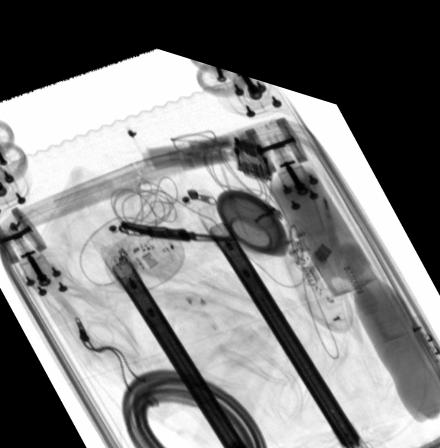Knife: (118, 212, 242, 228)
